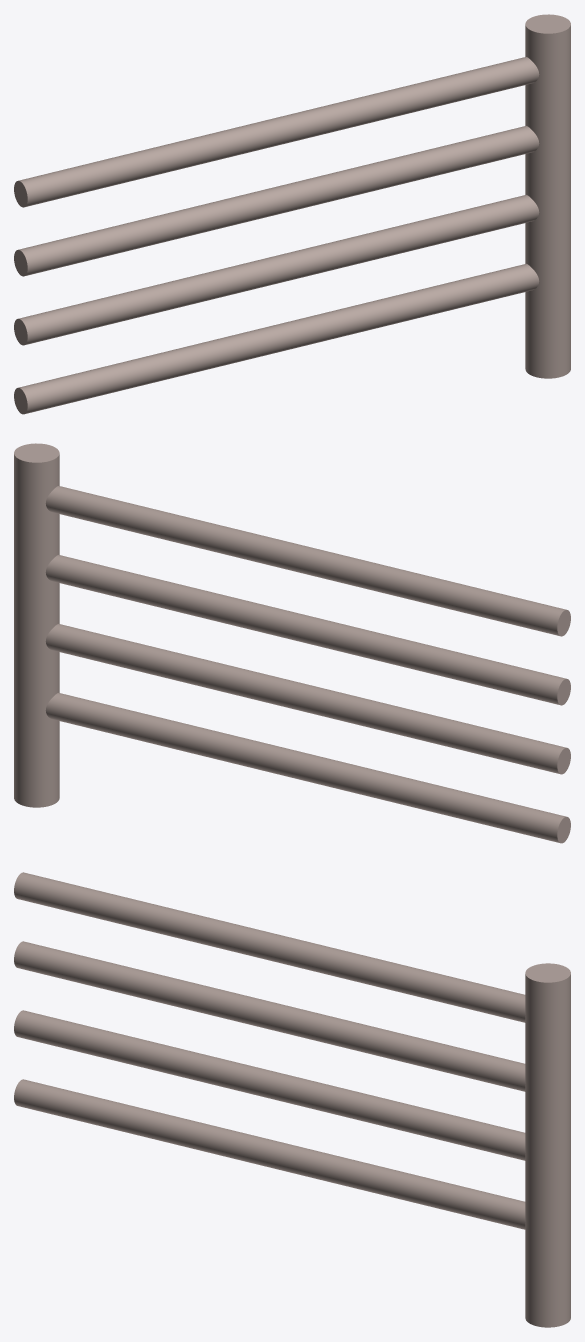
Rendered from 1014_fence_connect.glb.
3 renders of one model, top to bottom at view 1: azimuth 30°, elevation 25°; view 2: azimuth 150°, elevation 25°; view 3: azimuth 330°, elevation 25°, orthographic.
Visible parts, largest first — view 1: Body; view 2: Body; view 3: Body.
Part boxes in pixels (<box>): Body: <box>14,14,570,414</box>; Body: <box>14,443,570,843</box>; Body: <box>14,872,570,1327</box>.
Bounding box in the file's own units: 2.08 × 1.25 × 0.15.
